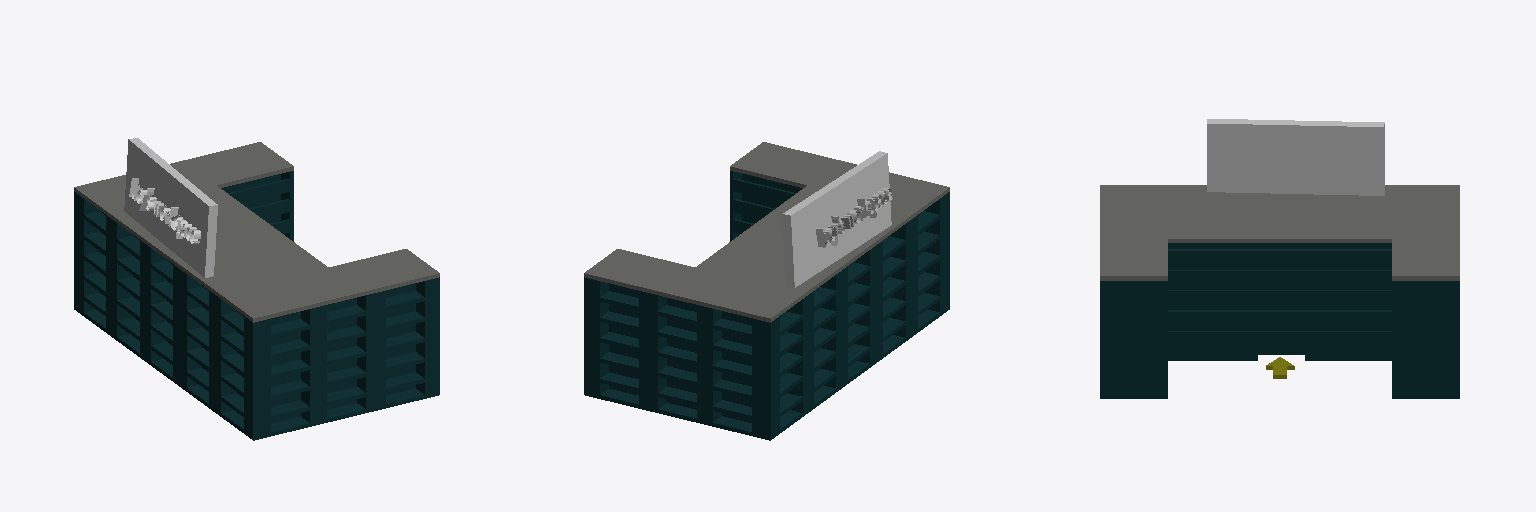
3 views of the same model, side by side, from view 1: azimuth 30°, elevation 25°; view 2: azimuth 150°, elevation 25°; view 3: azimuth 270°, elevation 25° (orthographic).
Parts seen in each view (by area): view 1: lll1.002, Cube.001_Cube.002, text.001_Text.001; view 2: lll1.002, Cube.001_Cube.002, text.001_Text.001; view 3: lll1.002, Cube.001_Cube.002.
Boxes of the visible parts, x1=… form: lll1.002: x1=74, y1=142, x2=439, y2=440; Cube.001_Cube.002: x1=124, y1=138, x2=217, y2=277; text.001_Text.001: x1=129, y1=178, x2=200, y2=243; lll1.002: x1=584, y1=142, x2=949, y2=440; Cube.001_Cube.002: x1=782, y1=151, x2=891, y2=287; text.001_Text.001: x1=816, y1=187, x2=892, y2=247; lll1.002: x1=1100, y1=185, x2=1459, y2=398; Cube.001_Cube.002: x1=1207, y1=119, x2=1384, y2=195.
Bounding box in the file's own units: 48.55 × 47.62 × 80.